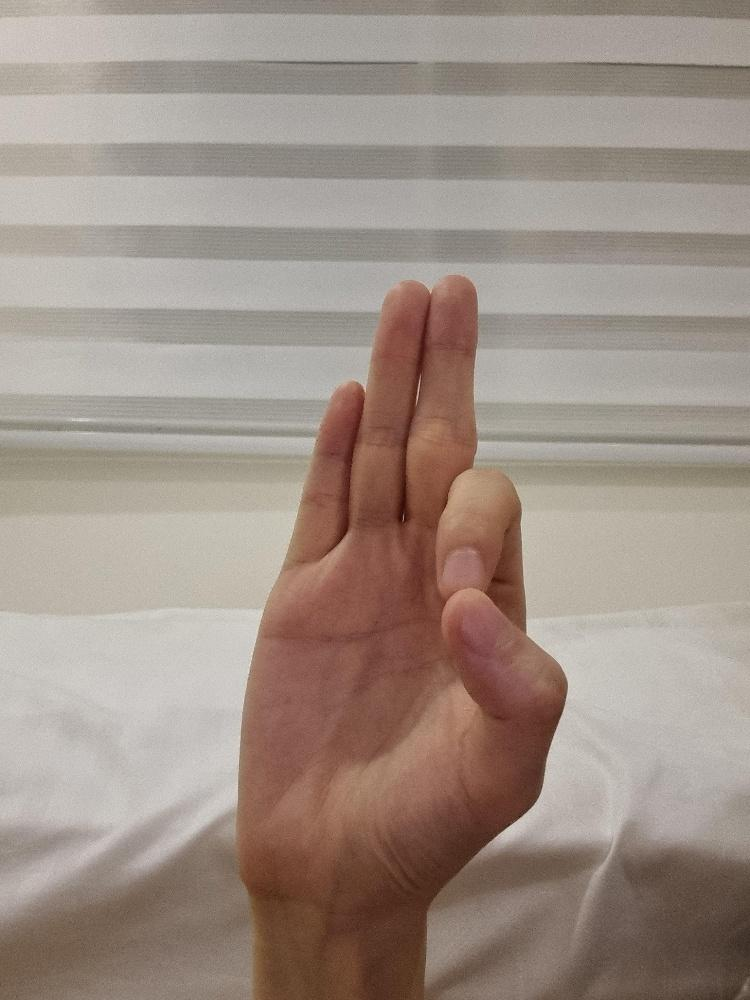f: (233, 269, 568, 902)
